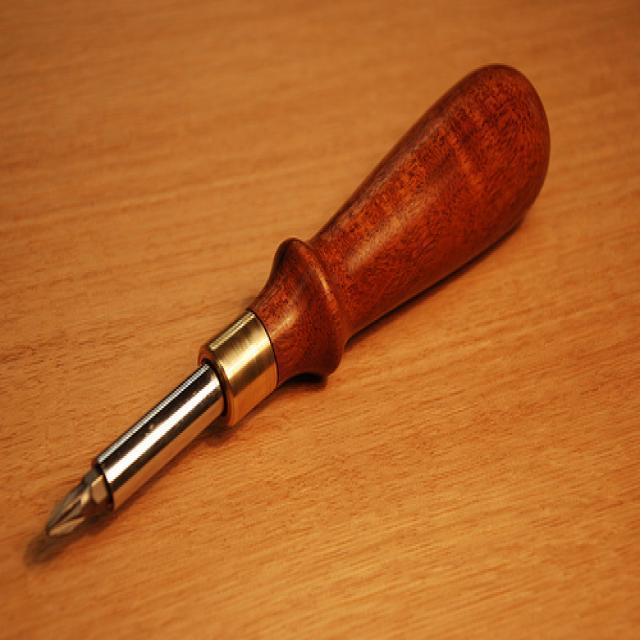screwdriver: (33, 51, 562, 570)
